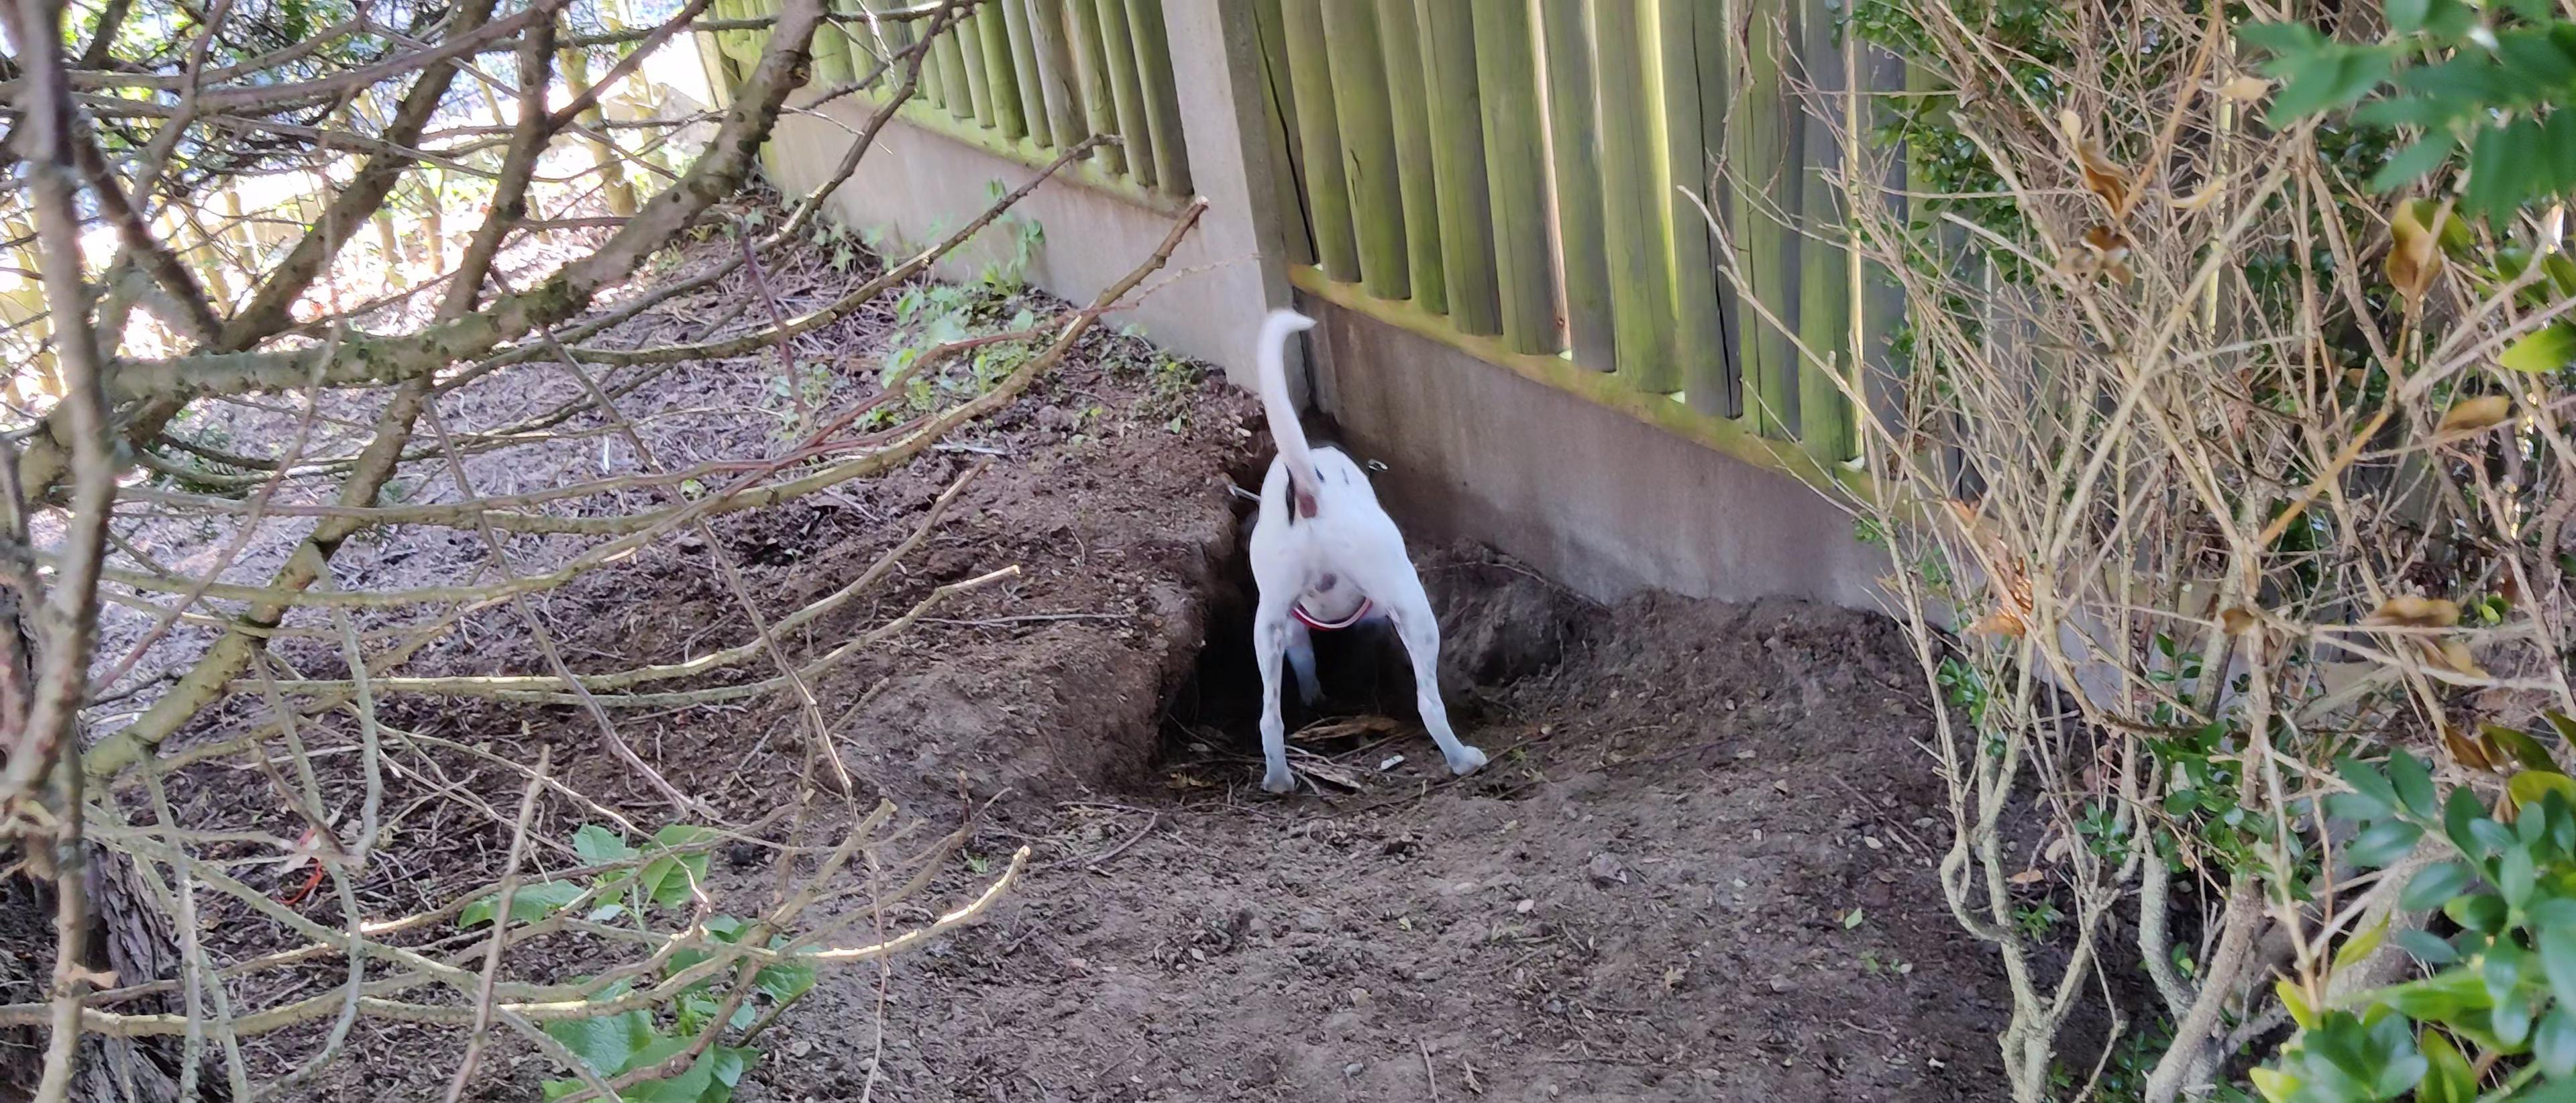Dog: (1211, 289, 1503, 804)
